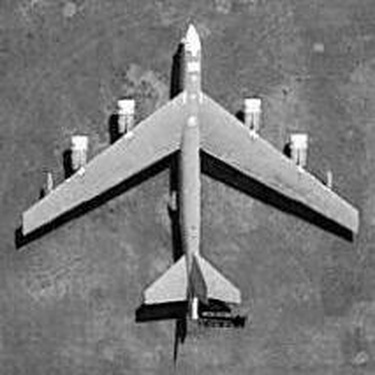airplane: (4, 15, 366, 332)
